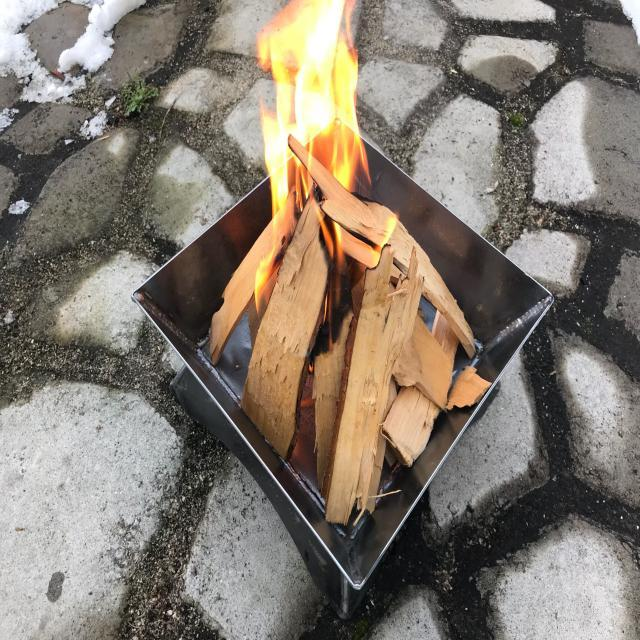Fire: (248, 1, 382, 279)
